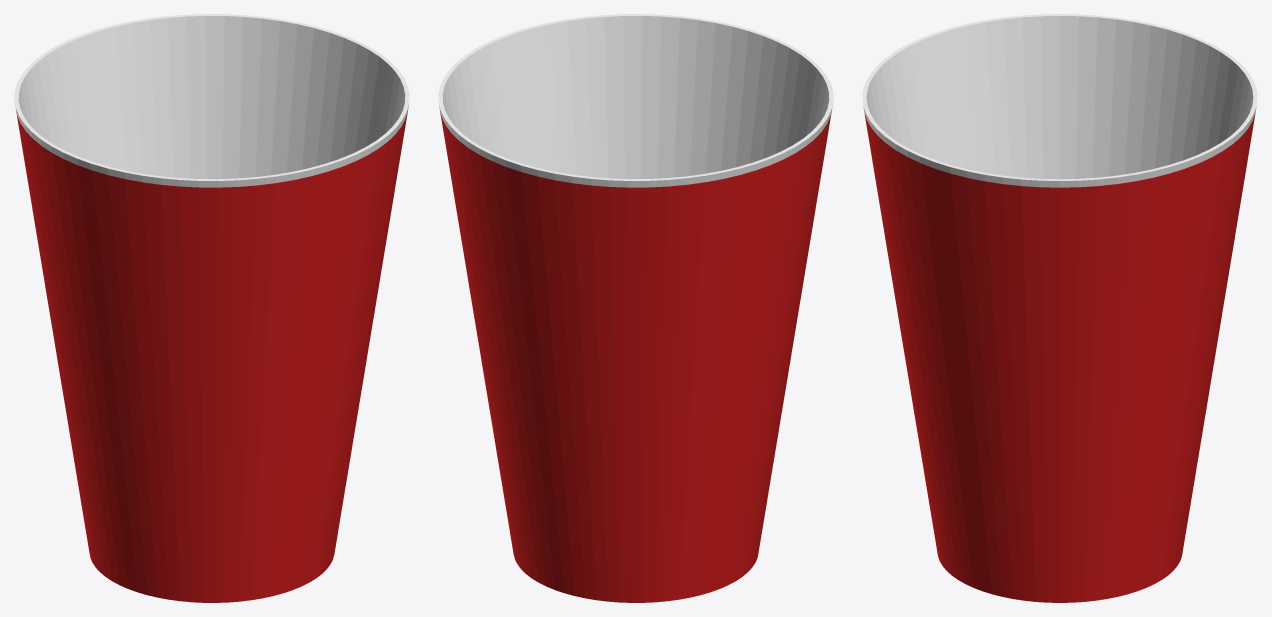
The model's file is RedSoloCup.fbx.
The picture shows the model from 3 angles, left to right: view 1: azimuth 30°, elevation 25°; view 2: azimuth 150°, elevation 25°; view 3: azimuth 270°, elevation 25°; orthographic projection.
Visible parts, largest first — view 1: Cylinder; view 2: Cylinder; view 3: Cylinder.
Part boxes in pixels (<box>): Cylinder: <box>14,14,409,602</box>; Cylinder: <box>438,14,833,602</box>; Cylinder: <box>862,14,1257,602</box>.
Bounding box in the file's own units: 920 × 1165 × 920.
